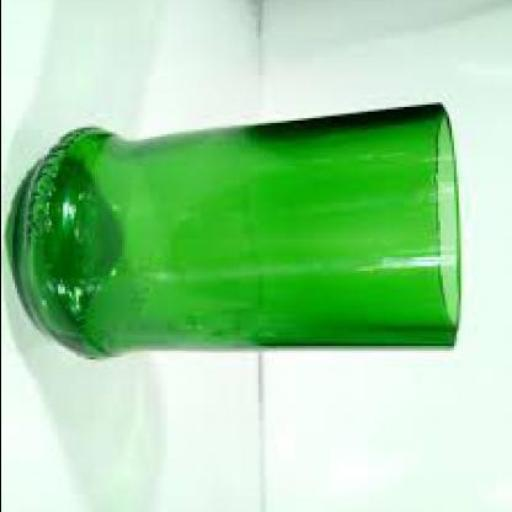glass: (12, 104, 462, 362)
